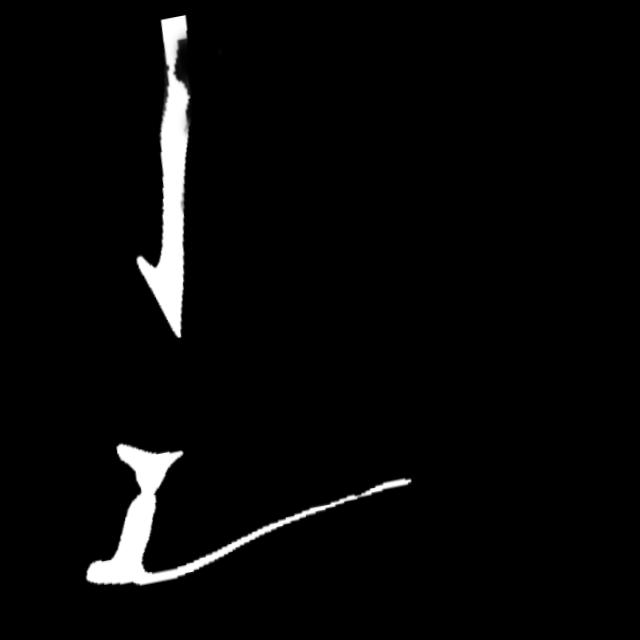sl: (152, 30, 203, 108)
